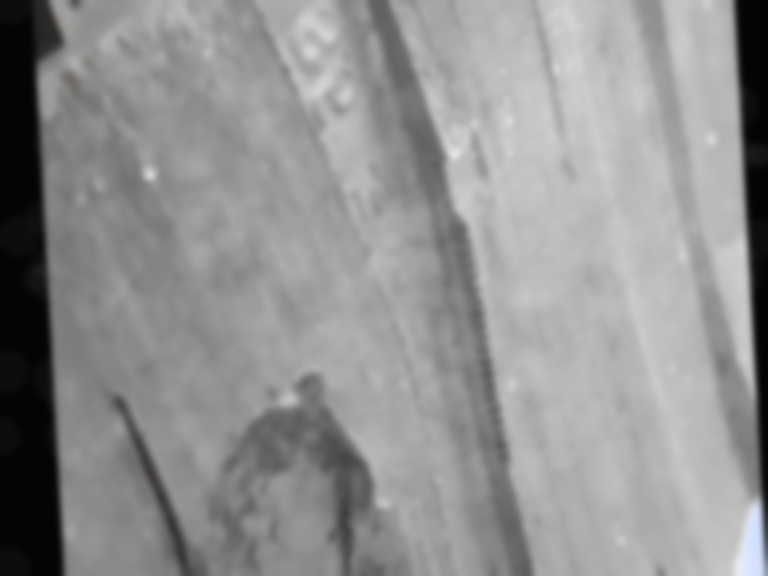temoin:0: (419, 116, 516, 249)
